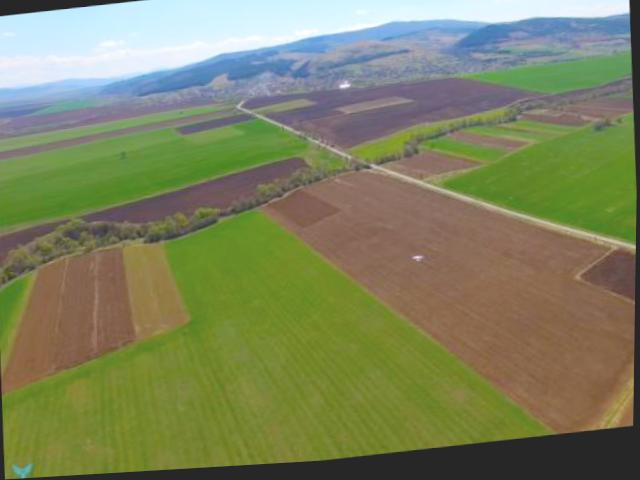uav: (410, 254, 429, 270)
